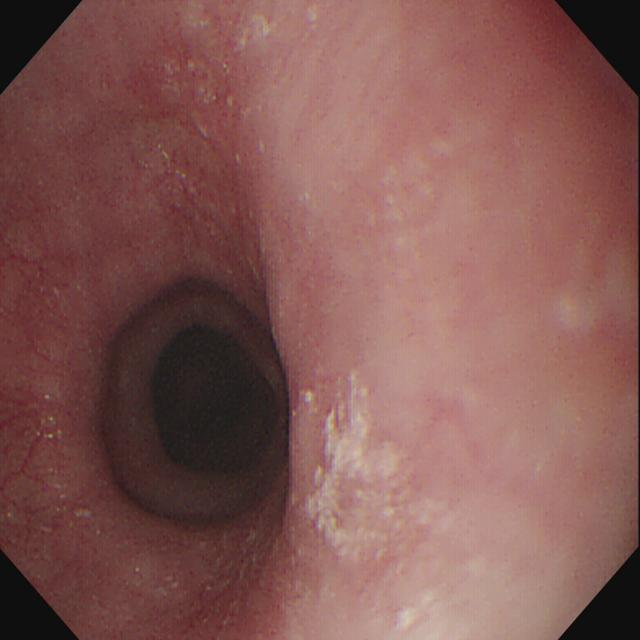E: (155, 327, 275, 471)
J: (305, 371, 403, 571)
